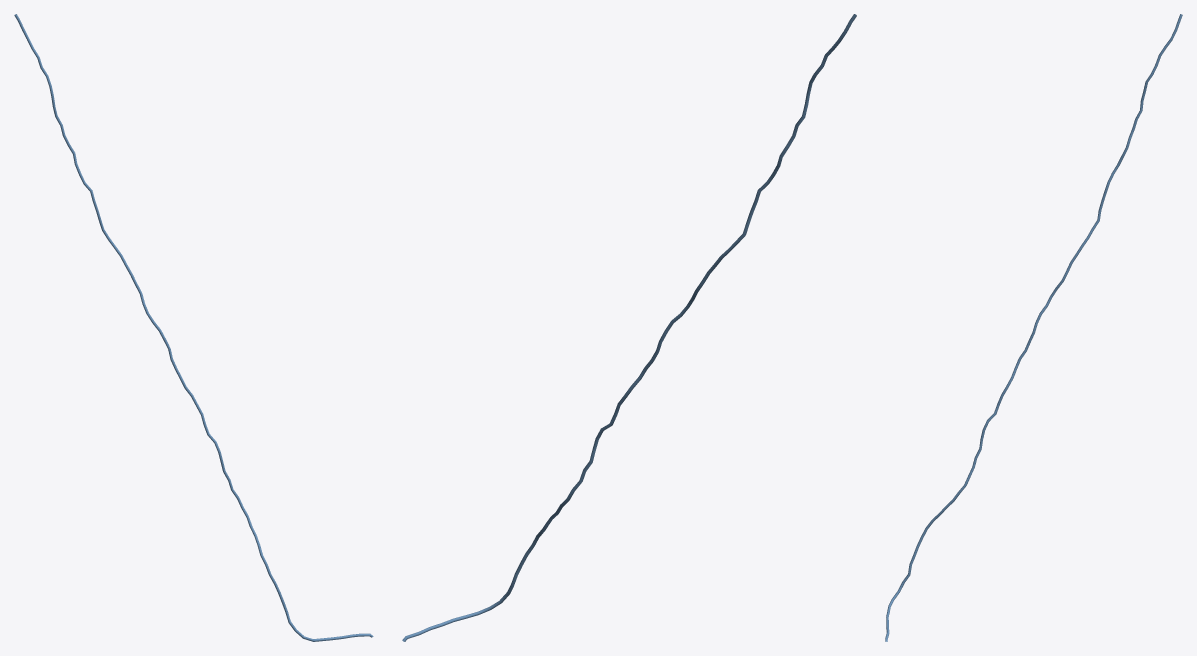
File: sweep250.fbx
The picture shows the model from 3 angles, left to right: view 1: azimuth 30°, elevation 25°; view 2: azimuth 210°, elevation 25°; view 3: azimuth 270°, elevation 25°; orthographic projection. The views are drawn at different scales.
Parts seen in each view (by area): view 1: sweep250; view 2: sweep250; view 3: sweep250.
Part boxes in pixels (x1,y1,x2,y2): sweep250: (14,14,373,641); sweep250: (402,14,856,641); sweep250: (885,14,1182,641).
Size of the model in its own units: 1.65 by 4.32 by 2.18.
